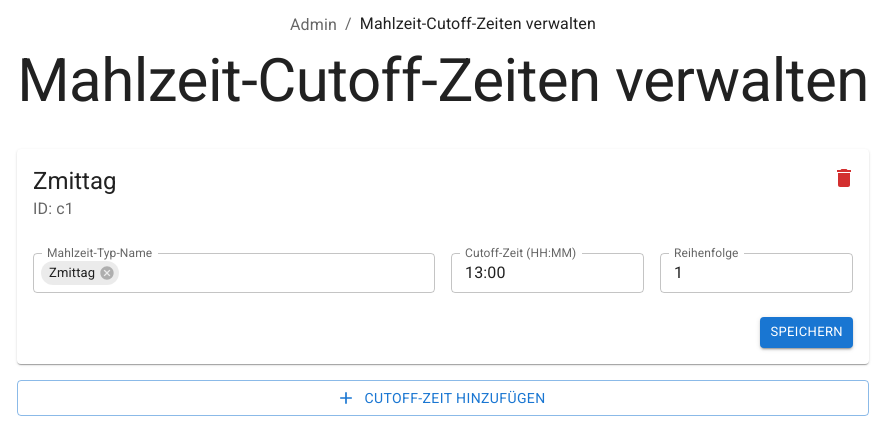
it: MealTypeCutoffTimesPage › uebernimmt getippten Text als Chip beim Verlassen des Feldes
The image size is (887, 433).
Expected: the field showing "13:00" is shown, x1=451 y1=253 x2=644 y2=293
Step 1. Type "Frühstück" into the dropdown labelled "Mahlzeit-Typ-Name" → (259, 273), box x1=121 y1=259 x2=396 y2=287
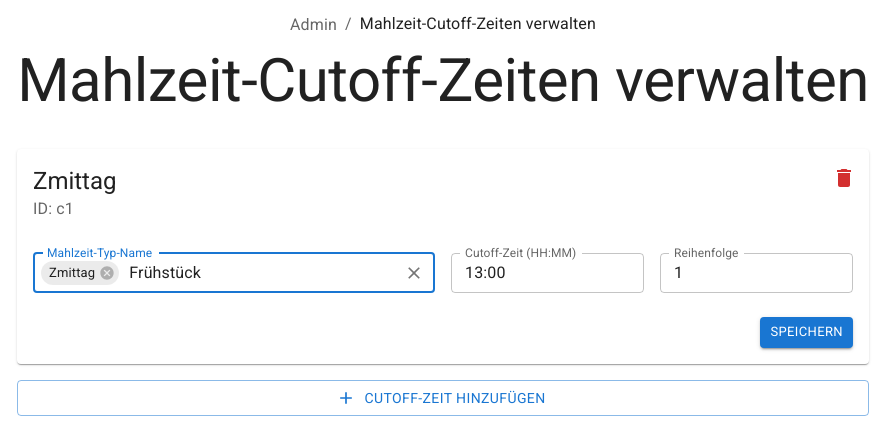
Step 2. Press Tab
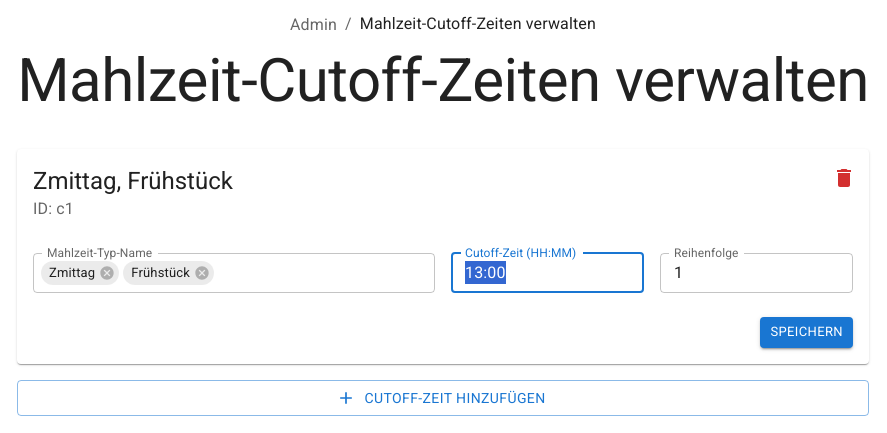
Expected: the text "Frühstück" is shown, x1=131 y1=265 x2=190 y2=280
